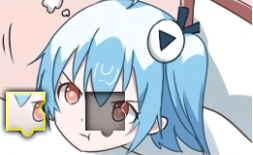gap: (84, 91, 125, 138)
